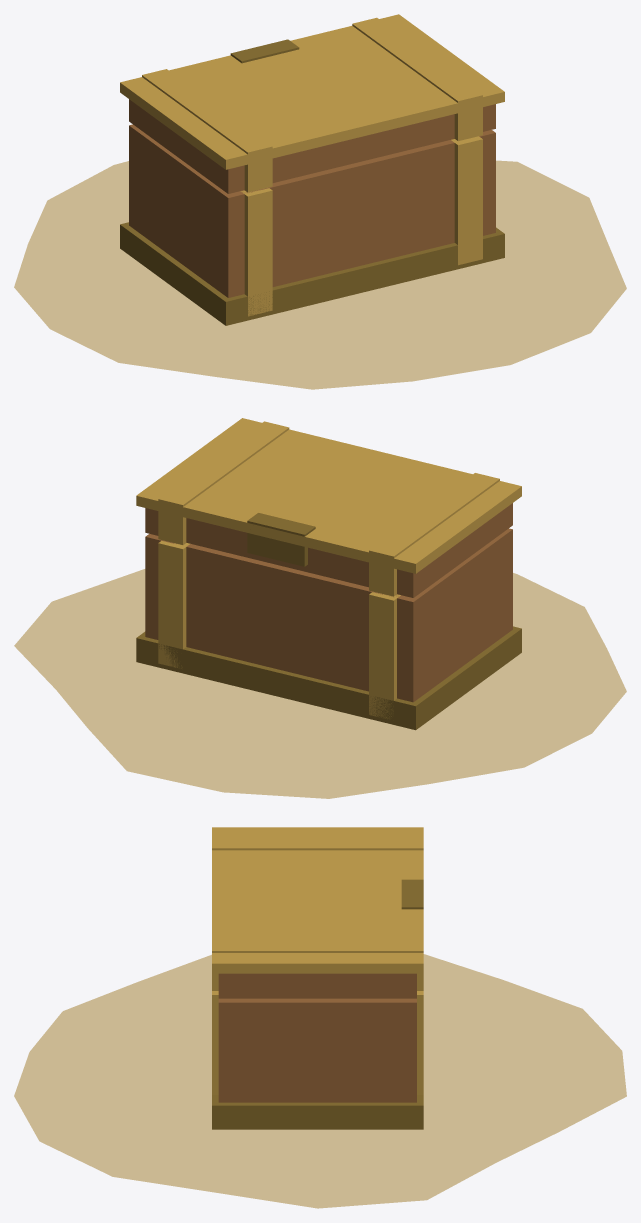
The model's file is xy_beach_chest.glb.
3 renders of one model, top to bottom at view 1: azimuth 30°, elevation 25°; view 2: azimuth 150°, elevation 25°; view 3: azimuth 270°, elevation 25°, orthographic.
Parts seen in each view (by area): view 1: Body, Lid; view 2: Body, Lid; view 3: Body, Lid.
Part boxes in pixels (x1,y1,x2,y2): Body: (14,124,626,389); Lid: (120,14,504,193); Body: (14,528,626,798); Lid: (136,418,521,597); Body: (14,954,626,1208); Lid: (212,827,423,998).
Size of the model in its own units: 2.82 by 0.9 by 2.78.
